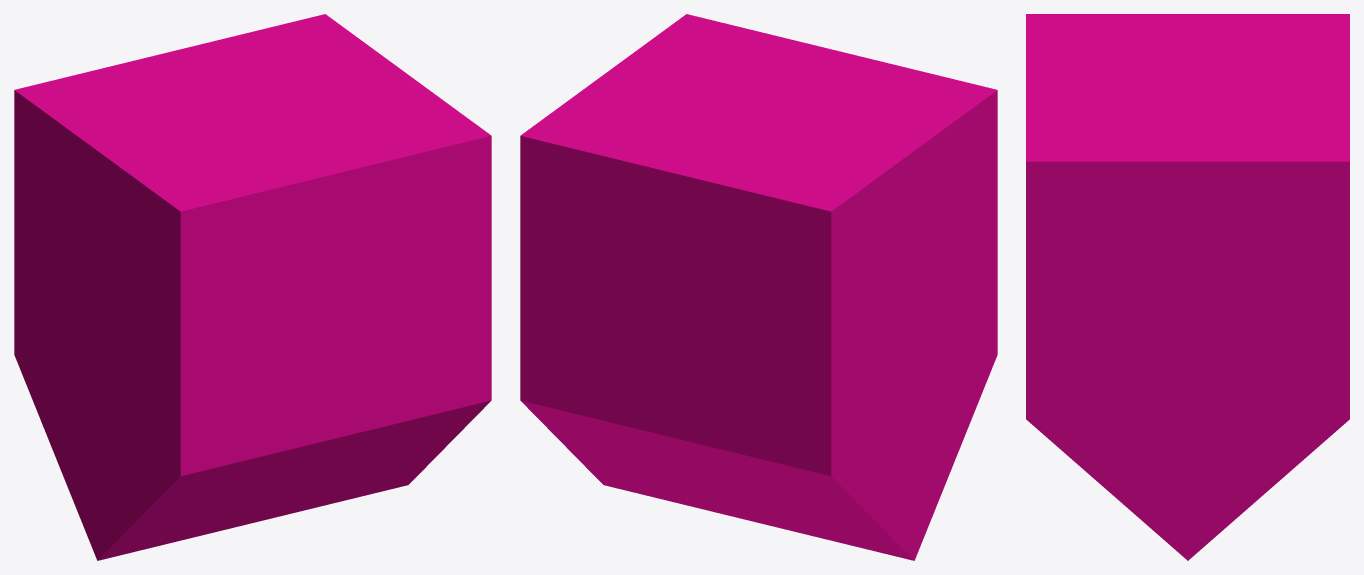
The model's file is FireStation.fbx.
3 renders of one model, left to right at view 1: azimuth 30°, elevation 25°; view 2: azimuth 150°, elevation 25°; view 3: azimuth 270°, elevation 25°, orthographic. The views are drawn at different scales.
Visible parts, largest first — view 1: Cube; view 2: Cube; view 3: Cube.
Part boxes in pixels (x1,y1,x2,y2): Cube: (14, 14, 491, 560); Cube: (520, 14, 997, 560); Cube: (1026, 14, 1349, 560).
Bounding box in the file's own units: 2138 × 2694 × 1980.
